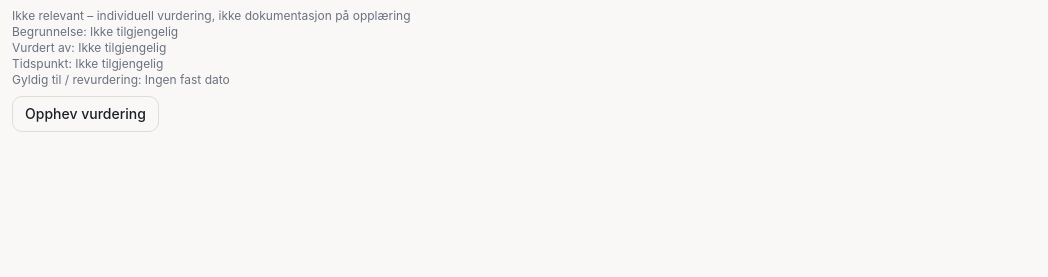
Test case: Relevance assessment admin action › revokes the assessment rather than deleting or changing the global requirement
Click the button "Opphev vurdering" at (85, 114), box [12, 96, 159, 132]
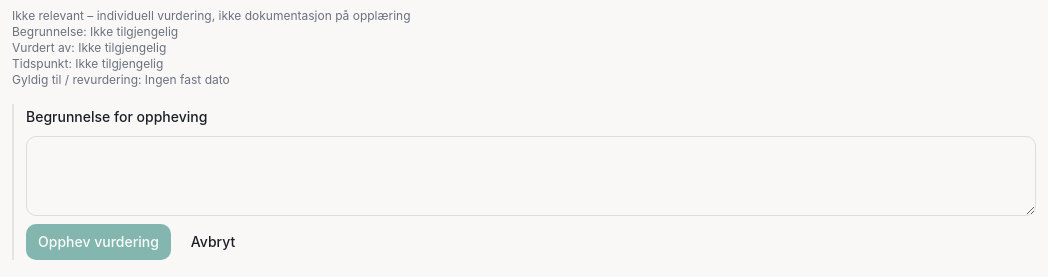
Type "Rollen er endret" into the text box labelled "Begrunnelse for oppheving" at (531, 176), box [26, 136, 1036, 216]
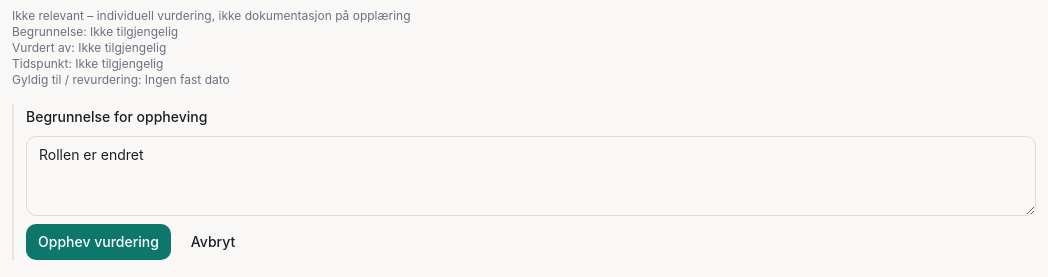
Click the button "Opphev vurdering" at (98, 242), box [26, 224, 171, 260]
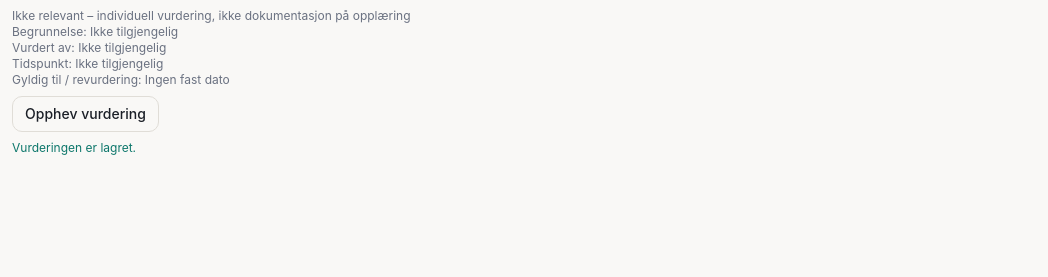
expect the message "Vurderingen er lagret." is shown: met, box [12, 140, 136, 155]
